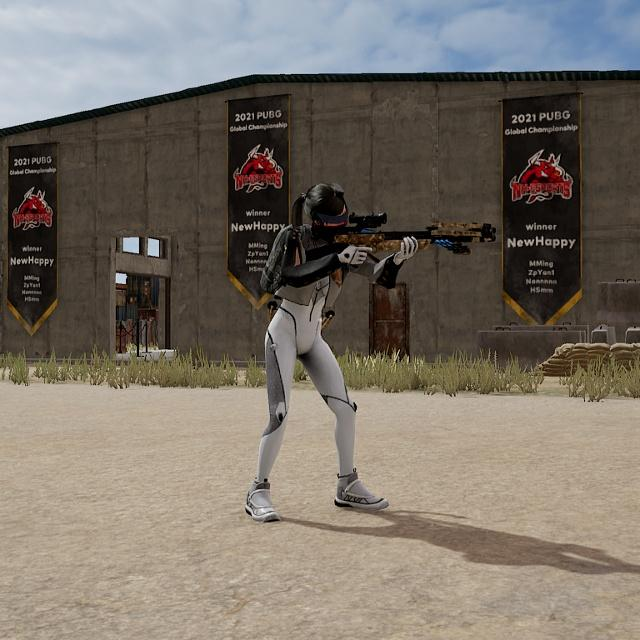head: (301, 178, 355, 241)
people: (234, 174, 393, 525)
